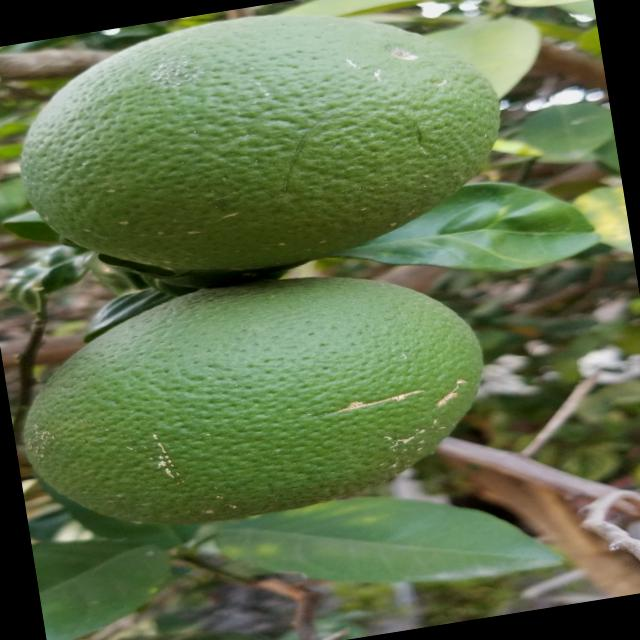Unripe: (0, 0, 523, 306), (10, 250, 511, 558)
